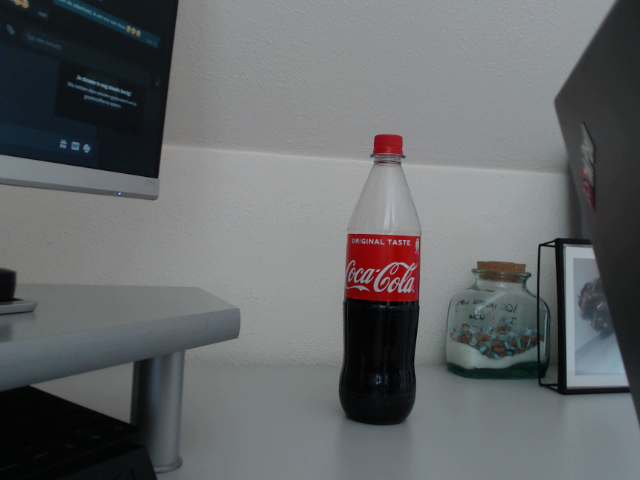bottle: (338, 135, 422, 425)
